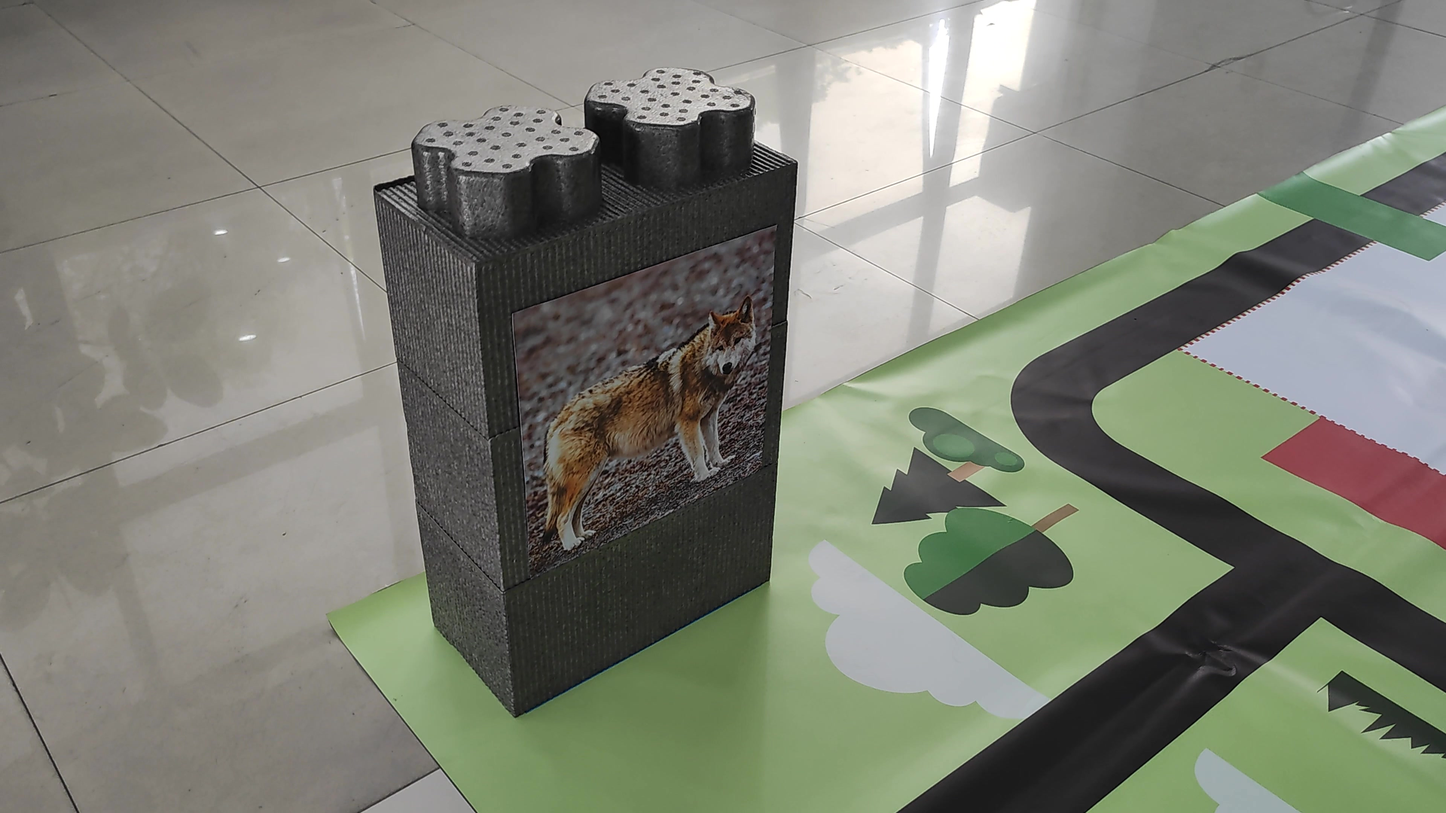wolf: (525, 302, 767, 572)
